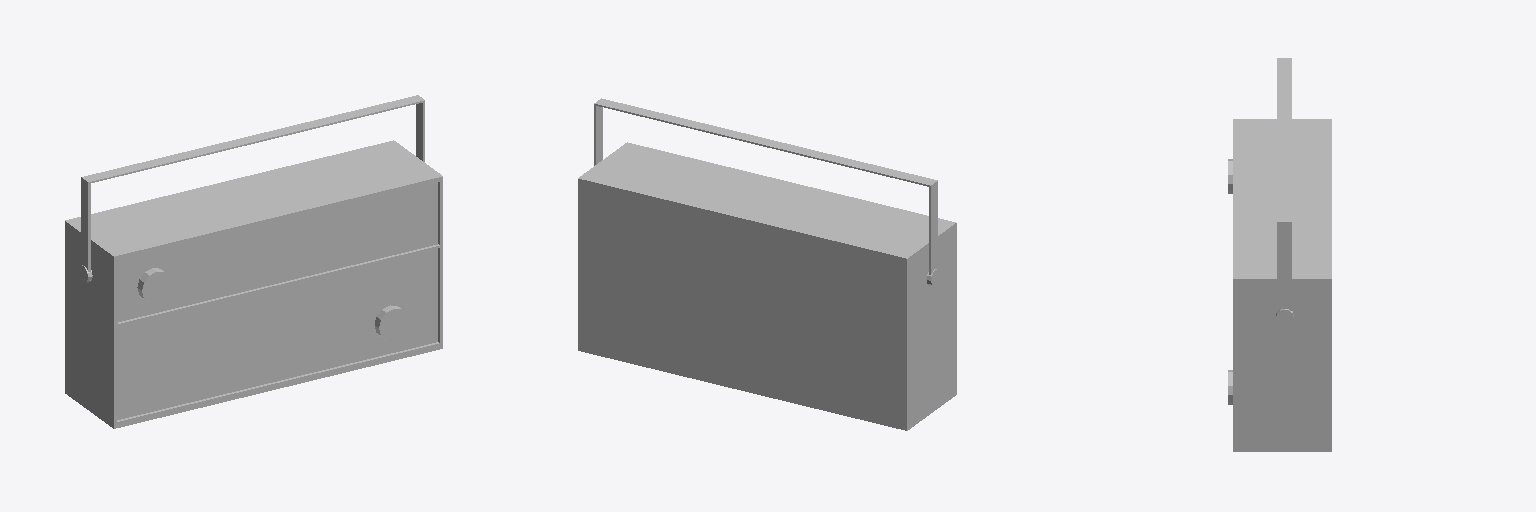
The model's file is Radio.obj.
3 renders of one model, left to right at view 1: azimuth 30°, elevation 25°; view 2: azimuth 150°, elevation 25°; view 3: azimuth 270°, elevation 25°, orthographic.
Parts seen in each view (by area): view 1: pCube1, pCube2, pCylinder1, pCylinder2; view 2: pCube1, pCube2; view 3: pCube1, pCube2.
Part boxes in pixels (bbox=[...]): pCube1: bbox=[65, 140, 442, 428]; pCube2: bbox=[81, 95, 424, 282]; pCylinder1: bbox=[137, 268, 171, 302]; pCylinder2: bbox=[375, 305, 408, 340]; pCube1: bbox=[578, 142, 956, 430]; pCube2: bbox=[594, 98, 937, 286]; pCube1: bbox=[1233, 119, 1331, 451]; pCube2: bbox=[1277, 58, 1291, 311].
Size of the model in its own units: 2.06 by 1.34 by 0.5476.